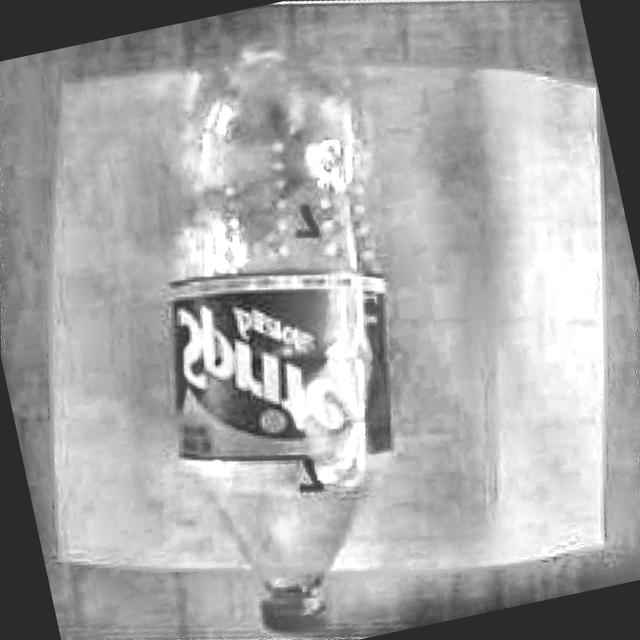plastic bottle: (175, 29, 394, 632)
